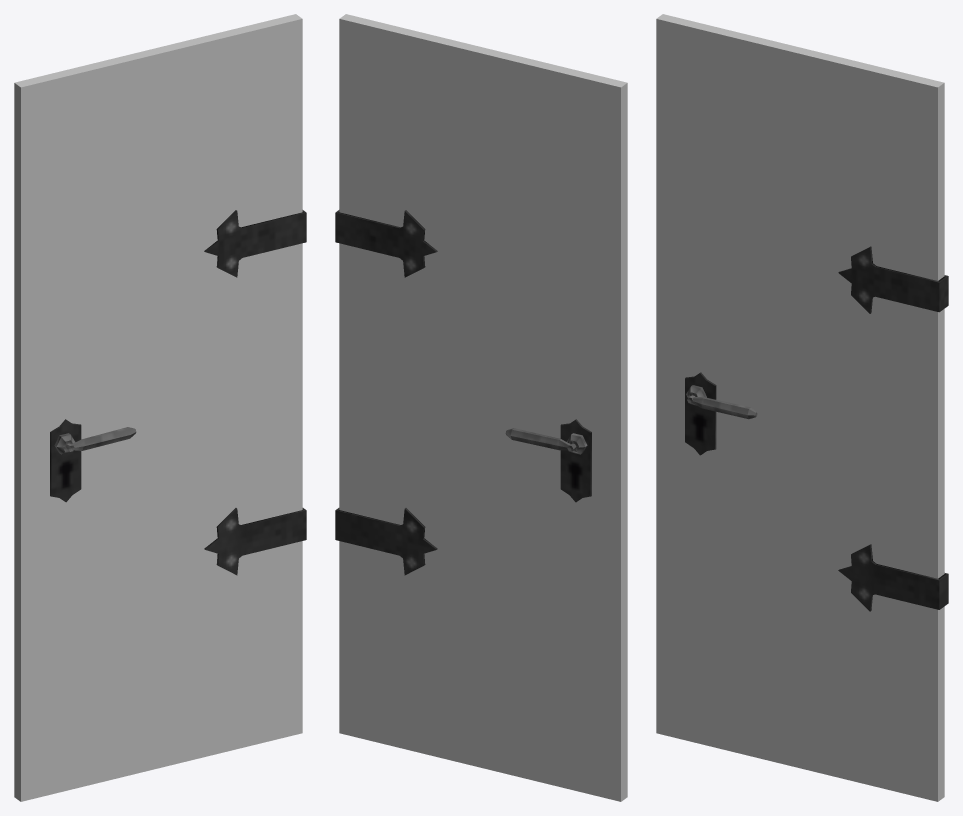
The model's file is MS_Door_1.fbx.
3 views of the same model, side by side, from view 1: azimuth 30°, elevation 25°; view 2: azimuth 150°, elevation 25°; view 3: azimuth 330°, elevation 25° (orthographic).
Parts seen in each view (by area): view 1: MSH_Door_01, MSH_Door_01_Handle; view 2: MSH_Door_01, MSH_Door_01_Handle; view 3: MSH_Door_01, MSH_Door_01_Handle.
Boxes of the visible parts, box(x1,y1,x2,y2) form: MSH_Door_01: box(14, 14, 306, 801); MSH_Door_01_Handle: box(54, 427, 136, 454); MSH_Door_01: box(335, 14, 627, 801); MSH_Door_01_Handle: box(505, 428, 587, 454); MSH_Door_01: box(656, 14, 948, 801); MSH_Door_01_Handle: box(686, 385, 757, 419).
Size of the model in its own units: 100 by 240 by 15.78.
